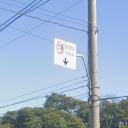speed_limit_50: (56, 41, 63, 54)
